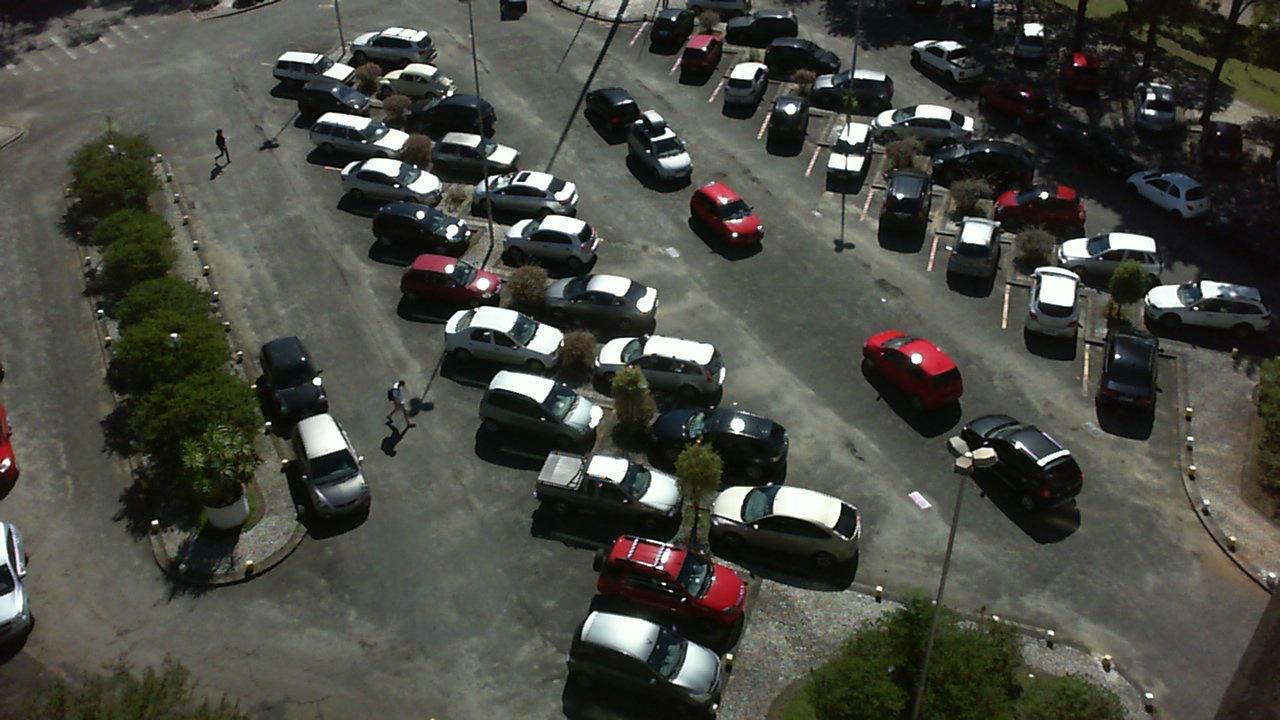occupied: (608, 526, 775, 654), (542, 439, 695, 539), (634, 397, 776, 485), (730, 478, 865, 570), (491, 366, 626, 456), (446, 304, 573, 386), (603, 324, 724, 402), (543, 264, 673, 334), (1139, 292, 1260, 362), (1083, 341, 1181, 421), (508, 216, 630, 277), (408, 252, 524, 316), (384, 198, 497, 263), (1065, 231, 1169, 296), (473, 167, 589, 225), (935, 223, 1013, 307), (1005, 271, 1085, 351), (992, 185, 1105, 240), (404, 88, 515, 143), (343, 156, 450, 211), (863, 183, 946, 253), (801, 137, 884, 205), (316, 113, 413, 169), (927, 140, 1028, 191), (629, 10, 703, 77), (760, 104, 832, 172), (445, 132, 544, 181), (819, 68, 916, 116), (670, 45, 745, 106), (709, 71, 784, 130), (301, 84, 393, 130), (1123, 84, 1182, 153), (867, 105, 955, 150), (278, 51, 364, 97), (349, 35, 438, 76), (732, 12, 821, 53), (383, 65, 472, 105), (1003, 22, 1067, 77), (1057, 56, 1118, 113), (778, 43, 857, 84)
